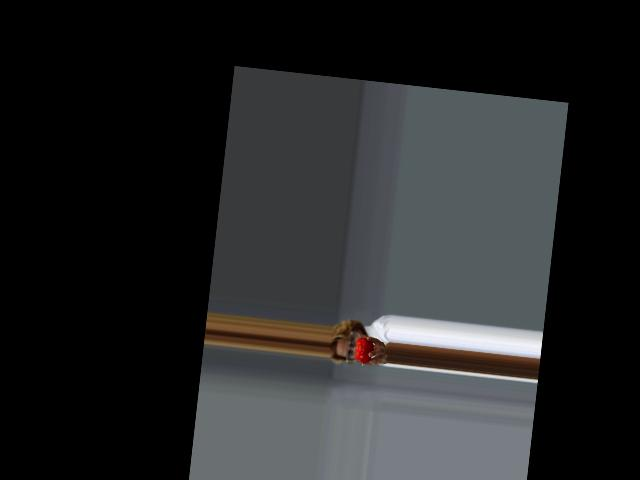tomato: (355, 336, 374, 363)
